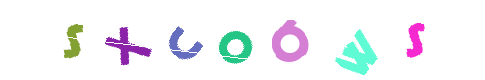6: (241, 0, 321, 80)
C: (195, 0, 275, 80)
O: (201, 0, 281, 80)
S: (33, 0, 113, 80), (375, 0, 455, 80)
W: (311, 0, 391, 80)
X: (110, 0, 190, 80)
